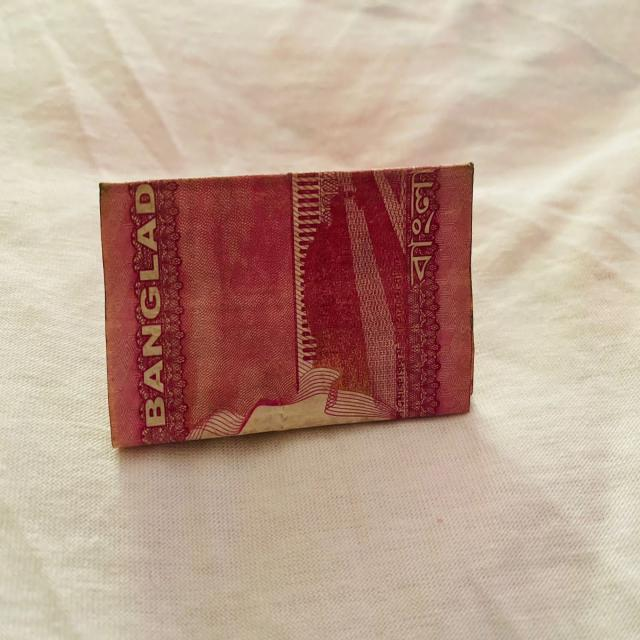Taka: (94, 168, 488, 449)
